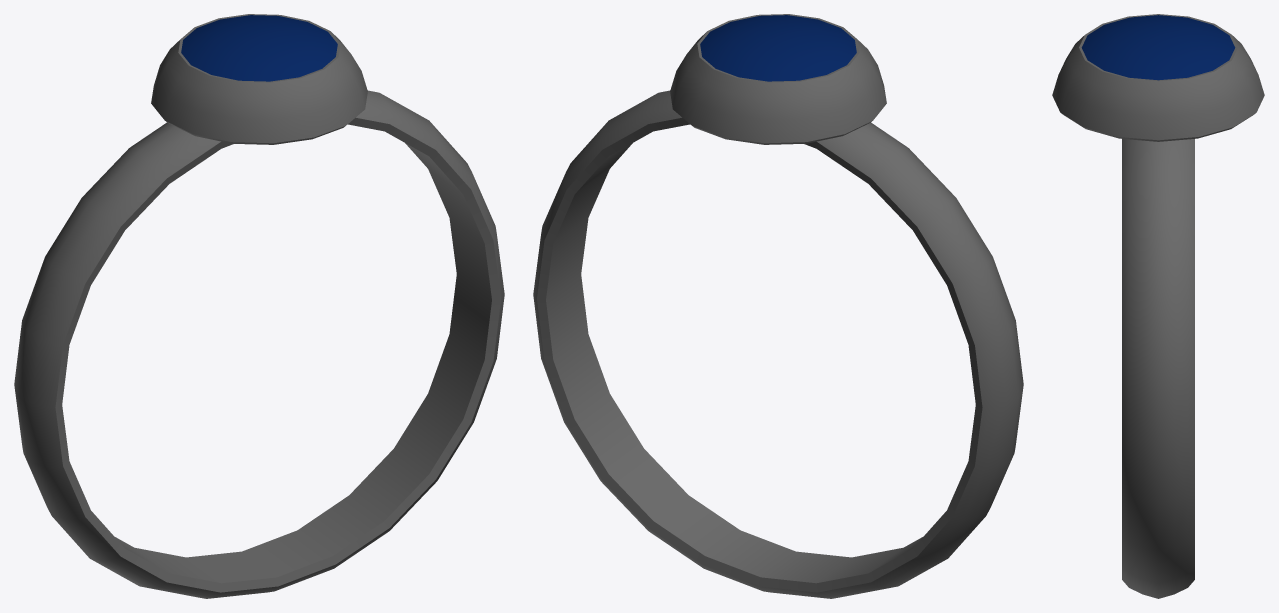
File: sapphire_ring.gltf
3 views of the same model, side by side, from view 1: azimuth 30°, elevation 25°; view 2: azimuth 150°, elevation 25°; view 3: azimuth 270°, elevation 25° (orthographic). The views are drawn at different scales.
Visible parts, largest first — view 1: Torus; view 2: Torus; view 3: Torus.
Part boxes in pixels (x1=…): Torus: x1=14, y1=14, x2=504, y2=598; Torus: x1=533, y1=14, x2=1023, y2=598; Torus: x1=1052, y1=14, x2=1264, y2=598.
Size of the model in its own units: 0.1078 by 0.1196 by 0.0425.
